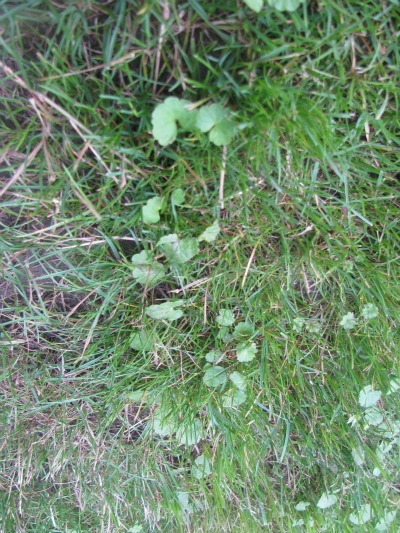crabgrass: (243, 182, 398, 377), (227, 59, 333, 152)
